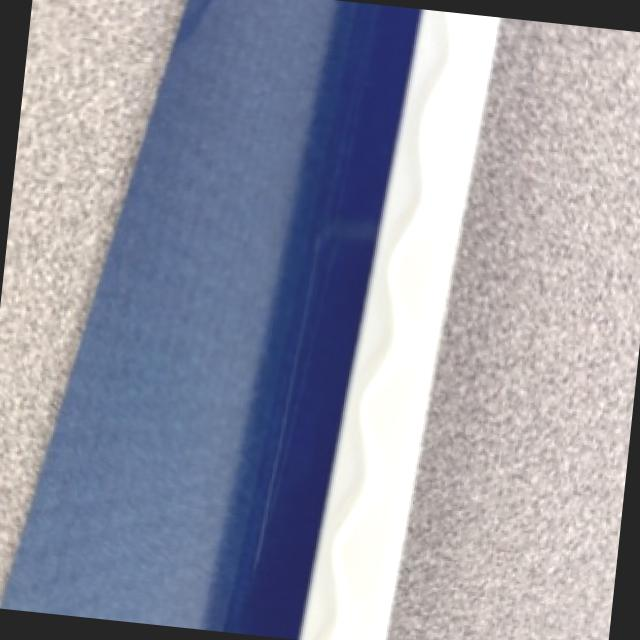healthy: (2, 0, 500, 640)
